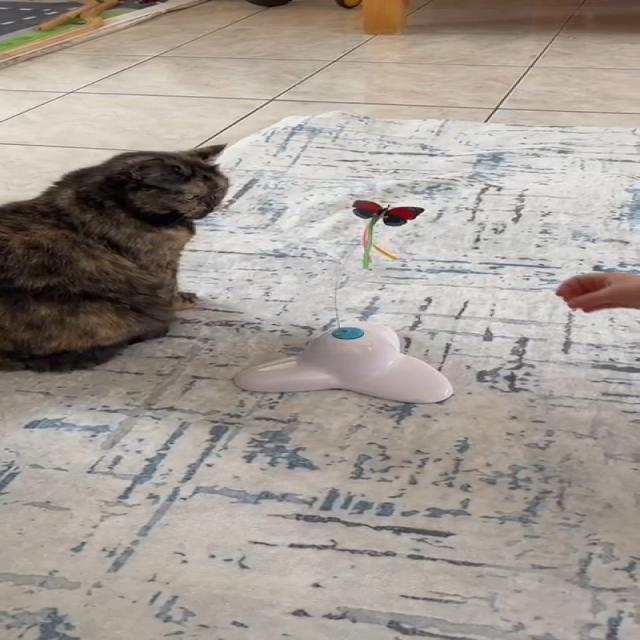authorized: (0, 142, 229, 372)
